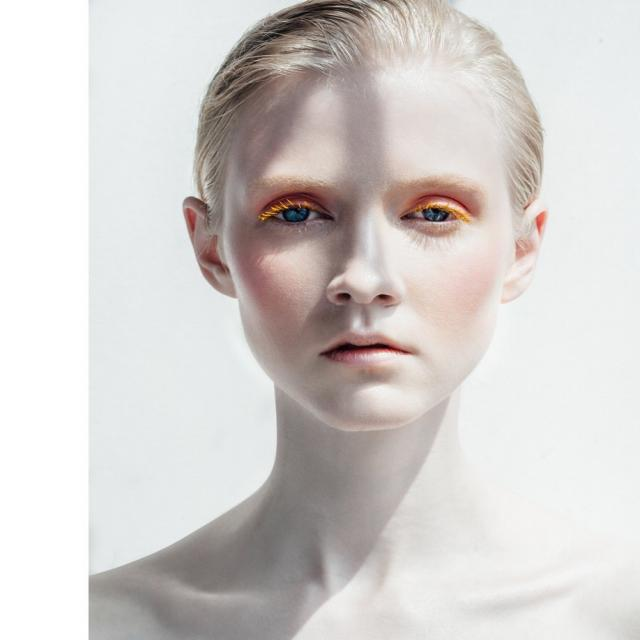earlobe: (499, 268, 528, 303), (210, 266, 238, 298)
eye: (264, 204, 335, 227), (399, 204, 469, 225)
nose: (327, 292, 402, 320)
wholeear: (181, 196, 238, 298), (500, 199, 550, 302)
